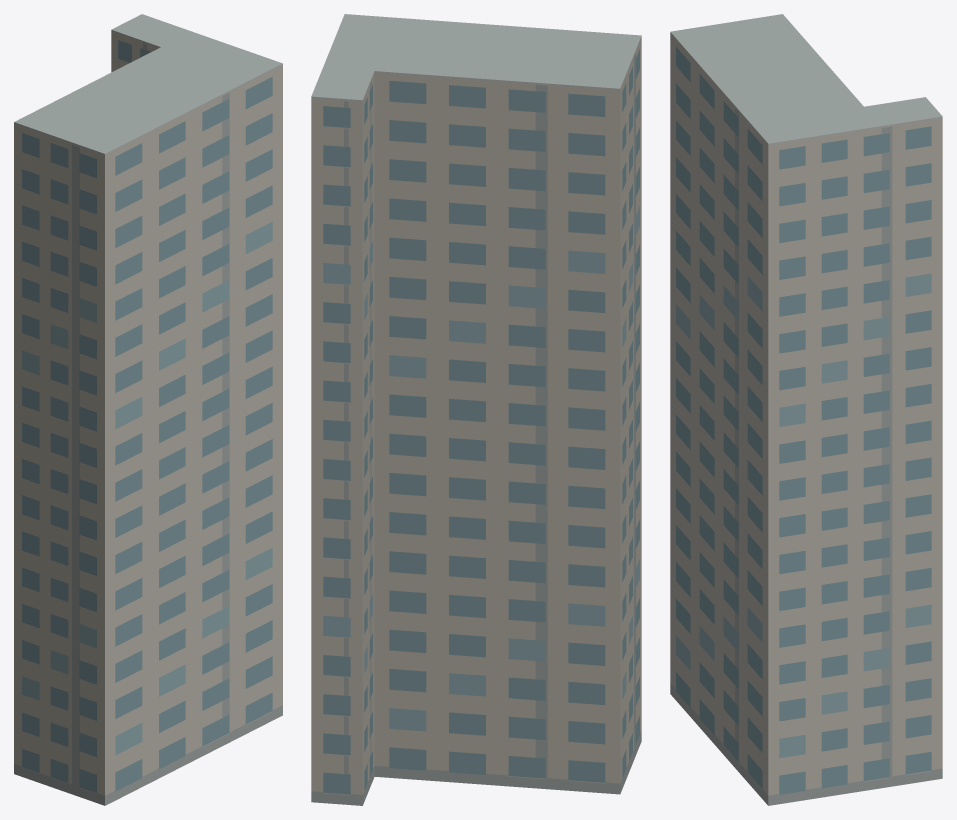
Rendered from residential-2a3af939-6ead-47fa-b792-40cd1890c826.glb.
3 renders of one model, left to right at view 1: azimuth 30°, elevation 25°; view 2: azimuth 150°, elevation 25°; view 3: azimuth 270°, elevation 25°, orthographic. The views are drawn at different scales.
Visible parts, largest first — view 1: residential-2a3af939-6ead-47fa-b792-40cd1890c826.tmp; view 2: residential-2a3af939-6ead-47fa-b792-40cd1890c826.tmp; view 3: residential-2a3af939-6ead-47fa-b792-40cd1890c826.tmp.
Boxes of the visible parts, x1,y1,x2,y2 form: residential-2a3af939-6ead-47fa-b792-40cd1890c826.tmp: (14, 14, 282, 805); residential-2a3af939-6ead-47fa-b792-40cd1890c826.tmp: (311, 14, 641, 805); residential-2a3af939-6ead-47fa-b792-40cd1890c826.tmp: (670, 14, 942, 805).
Size of the model in its own units: 32.36 by 77 by 28.73.
